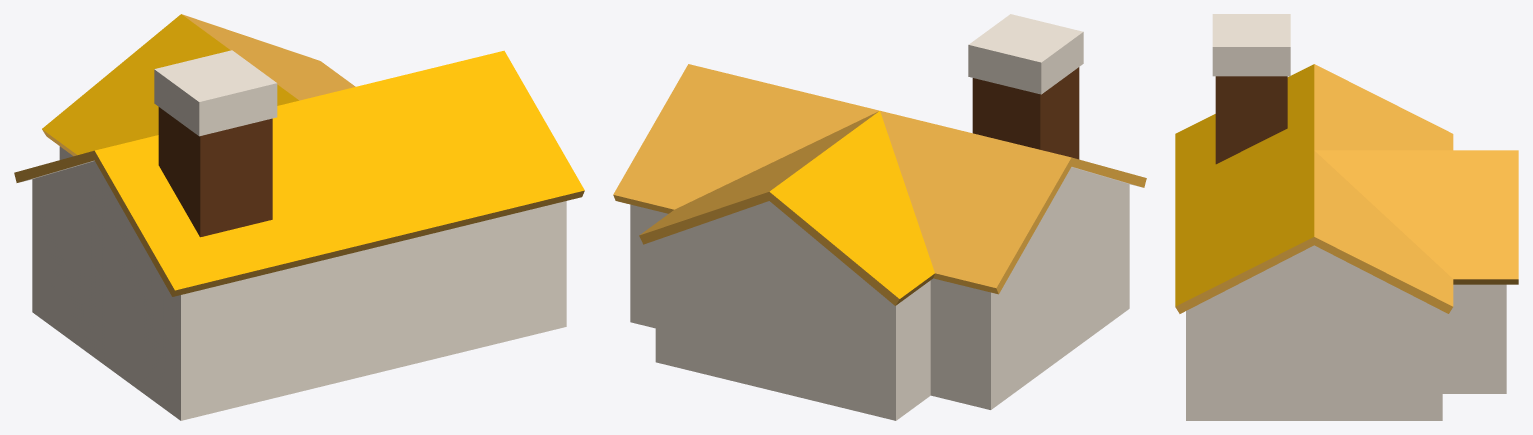
Rendered from Map-House-T-Lv2-Y.fbx.
3 views of the same model, side by side, from view 1: azimuth 30°, elevation 25°; view 2: azimuth 150°, elevation 25°; view 3: azimuth 270°, elevation 25° (orthographic). The views are drawn at different scales.
Visible parts, largest first — view 1: Map-House-T-Lv2-Y; view 2: Map-House-T-Lv2-Y; view 3: Map-House-T-Lv2-Y.
Part boxes in pixels (bbox=[...]): Map-House-T-Lv2-Y: bbox=[14, 14, 584, 420]; Map-House-T-Lv2-Y: bbox=[613, 14, 1146, 420]; Map-House-T-Lv2-Y: bbox=[1175, 14, 1518, 420].
Bounding box in the file's own units: 1.6 × 1.12 × 1.35.
